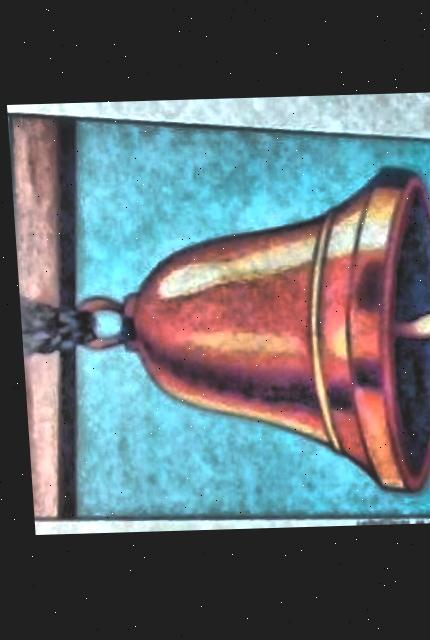La Campana: (6, 117, 430, 524)
